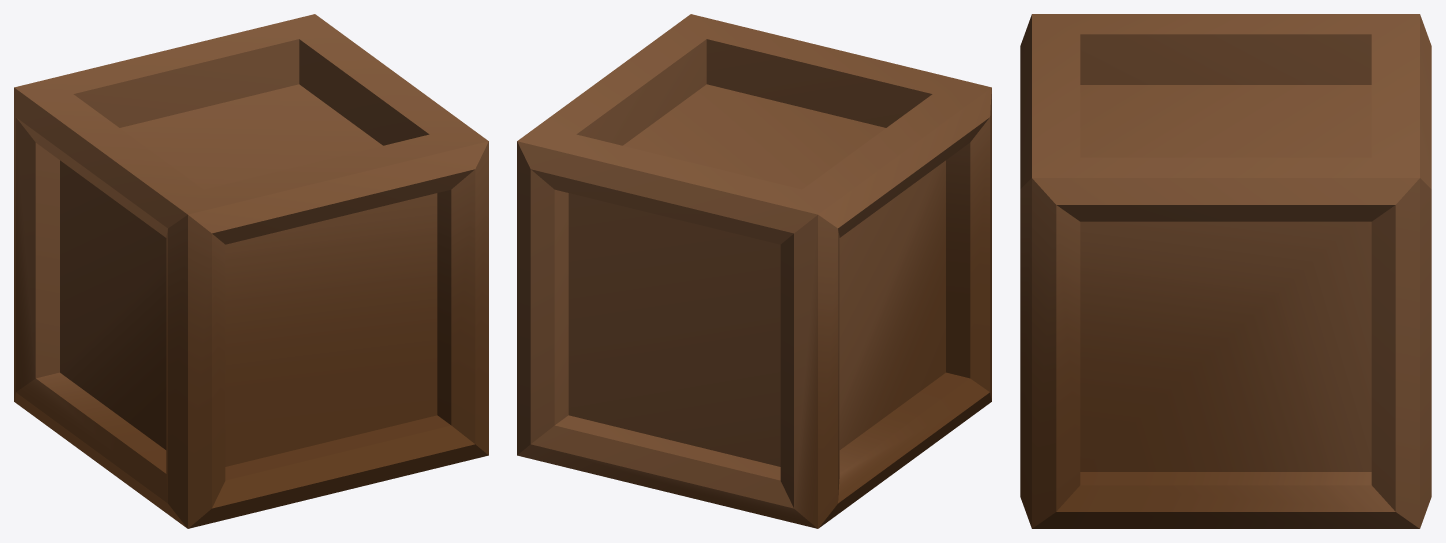
File: WoodenBox.fbx
3 renders of one model, left to right at view 1: azimuth 30°, elevation 25°; view 2: azimuth 150°, elevation 25°; view 3: azimuth 270°, elevation 25°, orthographic. The views are drawn at different scales.
Visible parts, largest first — view 1: WoodenBox; view 2: WoodenBox; view 3: WoodenBox.
Part boxes in pixels (x1,y1,x2,y2): WoodenBox: (14, 14, 488, 528); WoodenBox: (517, 14, 991, 528); WoodenBox: (1020, 14, 1431, 528).
Size of the model in its own units: 0.935 by 0.8802 by 0.935.
1 material, 1 textured.
